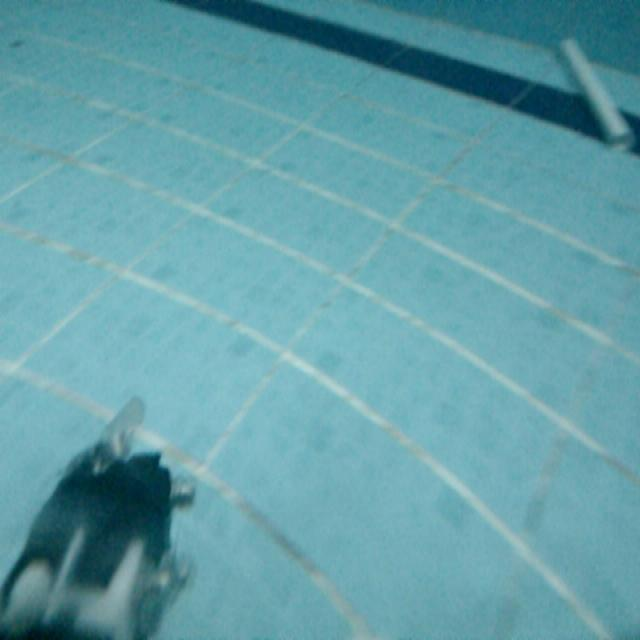Cube: (557, 34, 633, 154)
